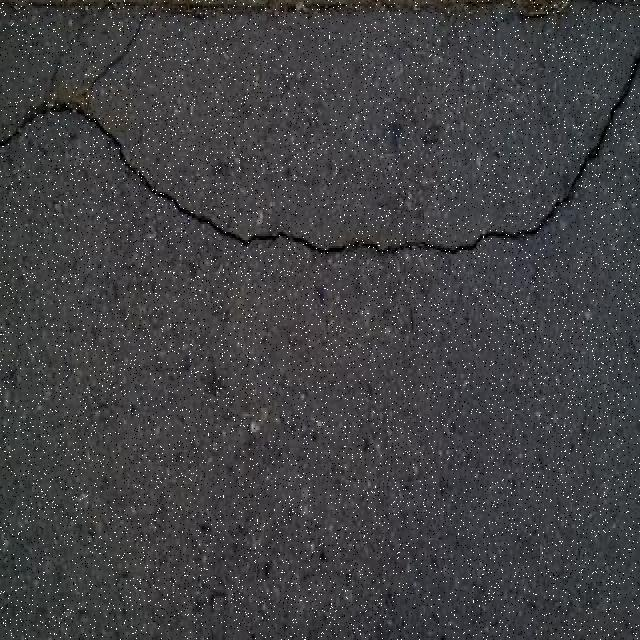moderate crack: (10, 0, 614, 18), (198, 362, 226, 397), (0, 362, 21, 391)
severe crack: (382, 7, 639, 250), (8, 91, 269, 244), (90, 316, 294, 420), (85, 10, 152, 102), (518, 170, 610, 237), (592, 34, 640, 141), (341, 232, 482, 255), (186, 210, 255, 246), (140, 182, 196, 218), (245, 228, 329, 248), (311, 240, 352, 254), (370, 242, 396, 254)
